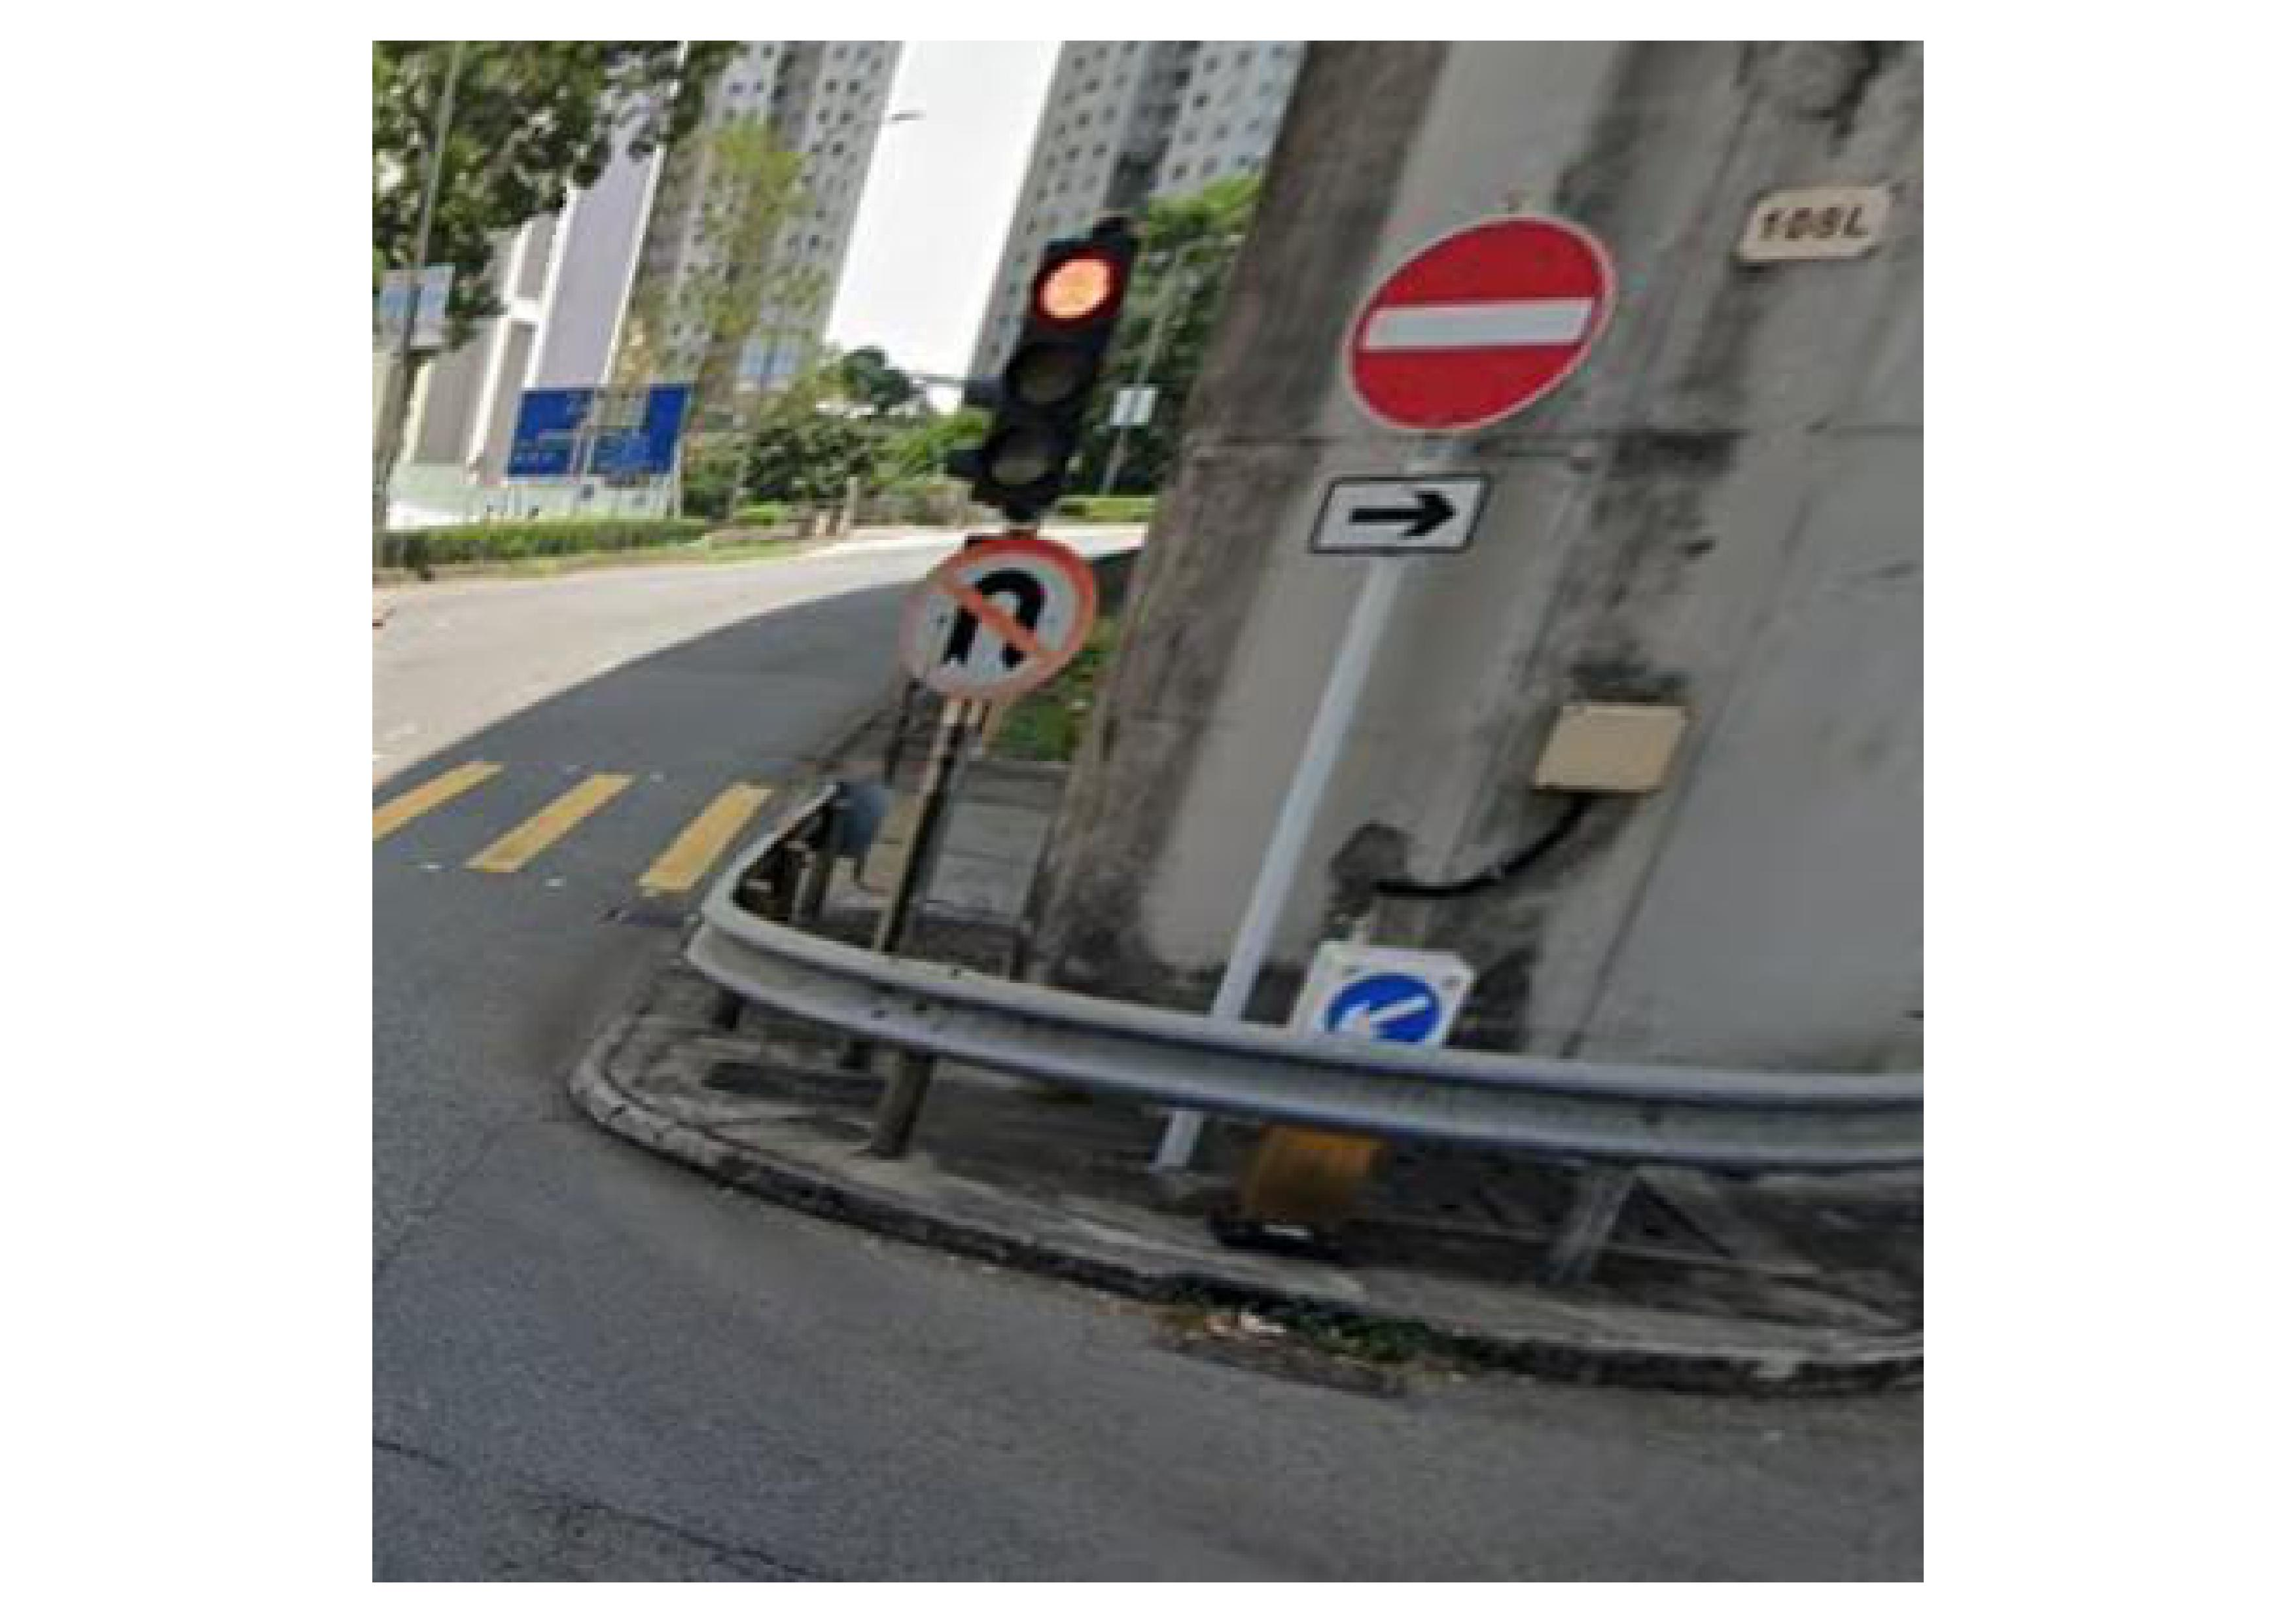No Uturn: (879, 536, 1101, 718)
